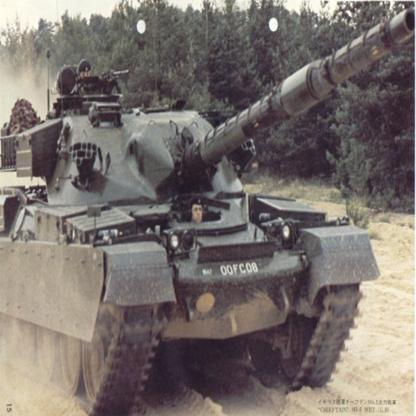Tank: (1, 25, 382, 416)
